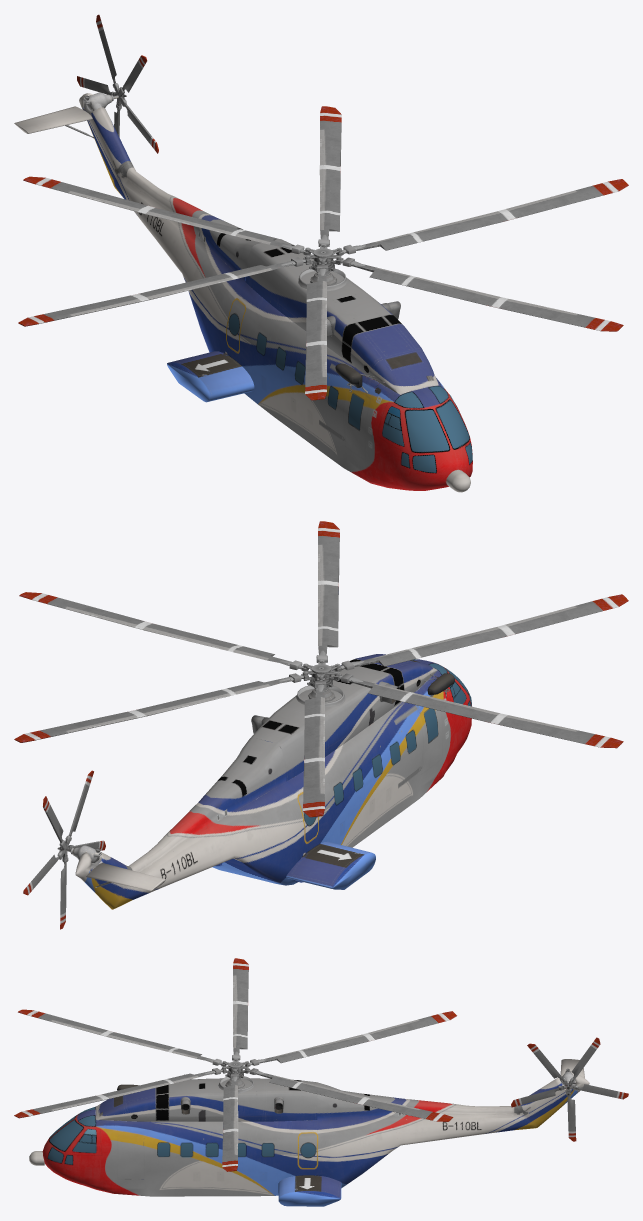
3 views of the same model, one above another, from view 1: azimuth 30°, elevation 25°; view 2: azimuth 150°, elevation 25°; view 3: azimuth 270°, elevation 25° (orthographic). The views are drawn at different scales.
Parts seen in each view (by area): view 1: AC313_JIAN, AC313_XUANYI, AC313_JIAN JIYI01, AC313_houyi; view 2: AC313_JIAN, AC313_XUANYI, AC313_JIAN JIYI01, AC313_houyi; view 3: AC313_JIAN, AC313_XUANYI, AC313_houyi, AC313_JIAN JIYI01.
Part boxes in pixels (left/top/right/bottom): AC313_JIAN: left=14, top=92, right=472, bottom=492; AC313_XUANYI: left=18, top=106, right=628, bottom=400; AC313_JIAN JIYI01: left=281, top=234, right=365, bottom=285; AC313_houyi: left=77, top=14, right=158, bottom=153; AC313_JIAN: left=65, top=654, right=471, bottom=909; AC313_XUANYI: left=14, top=521, right=628, bottom=817; AC313_JIAN JIYI01: left=279, top=650, right=364, bottom=702; AC313_houyi: left=23, top=770, right=105, bottom=929; AC313_JIAN: left=29, top=1059, right=589, bottom=1206; AC313_XUANYI: left=14, top=958, right=456, bottom=1171; AC313_houyi: left=511, top=1037, right=628, bottom=1141; AC313_JIAN JIYI01: left=205, top=1051, right=266, bottom=1088.
Bounding box in the file's own units: 743 × 253 × 910.
